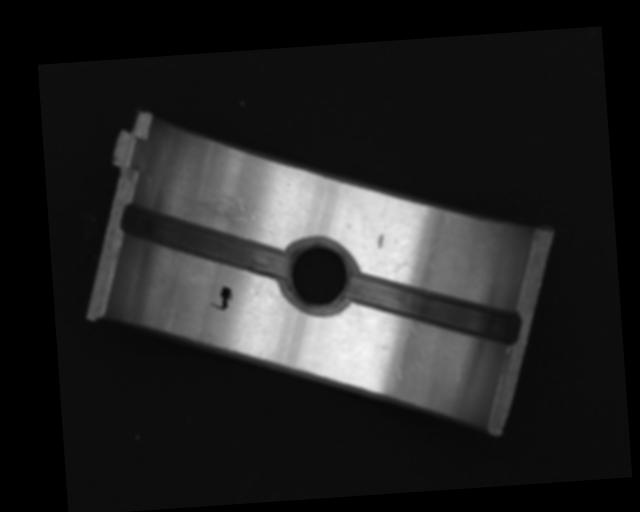blot: (208, 284, 234, 312)
bruise: (376, 233, 385, 249)
gap: (119, 194, 290, 290), (346, 263, 521, 353)
hole: (279, 242, 357, 315)
scratch: (175, 188, 265, 240)
